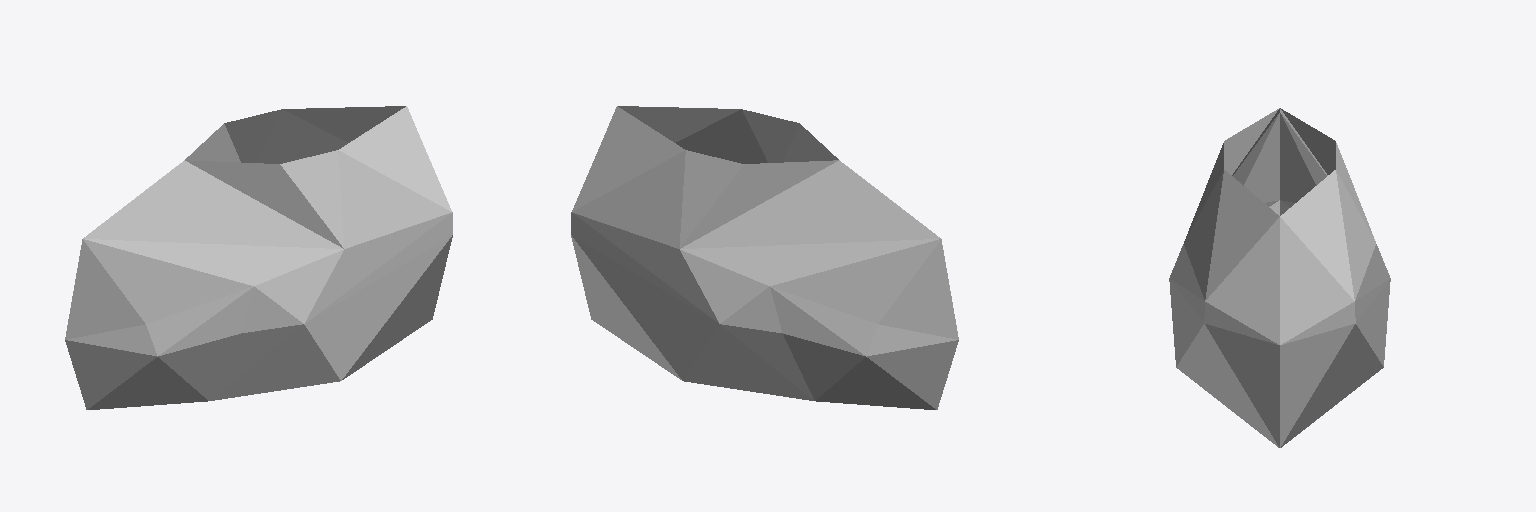
The model's file is rhodium_leg_gem2.obj.
The picture shows the model from 3 angles: view 1: azimuth 30°, elevation 25°; view 2: azimuth 150°, elevation 25°; view 3: azimuth 270°, elevation 25°; orthographic projection.
Parts seen in each view (by area): view 1: RhodiumLegGem2; view 2: RhodiumLegGem2; view 3: RhodiumLegGem2.
Part boxes in pixels (x1,y1,x2,y2): RhodiumLegGem2: (65,106,452,409); RhodiumLegGem2: (571,106,958,409); RhodiumLegGem2: (1169,108,1390,447).
Bounding box in the file's own units: 1.97 × 1.12 × 0.9913.